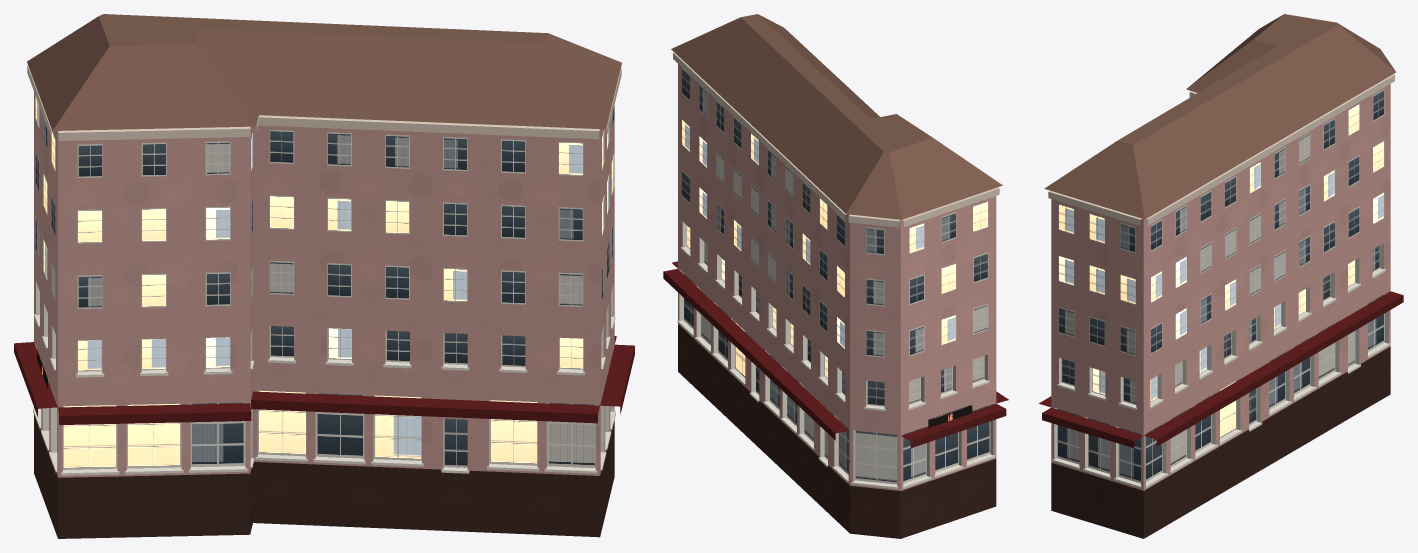
File: langB_klaus.glb
3 renders of one model, left to right at view 1: azimuth 30°, elevation 25°; view 2: azimuth 150°, elevation 25°; view 3: azimuth 270°, elevation 25°, orthographic. The views are drawn at different scales.
Parts seen in each view (by area): view 1: langB_klaus; view 2: langB_klaus; view 3: langB_klaus.
Part boxes in pixels (bbox=[...]): langB_klaus: bbox=[14, 14, 634, 538]; langB_klaus: bbox=[663, 14, 1008, 538]; langB_klaus: bbox=[1039, 14, 1403, 538].
Bounding box in the file's own units: 26.29 × 22.85 × 20.66.
Materials: 3 (3 with a texture image).
